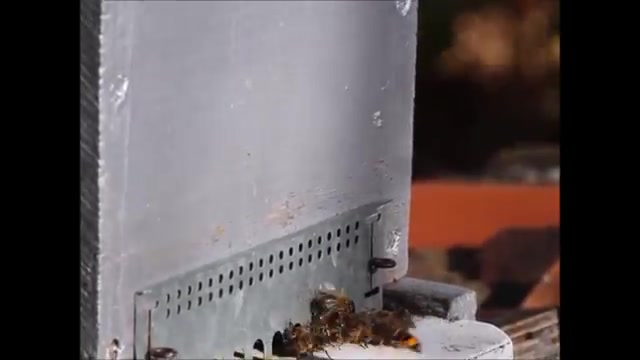bee: (317, 316, 367, 347), (295, 327, 324, 353), (325, 297, 357, 315)
hornet: (369, 320, 426, 356)
